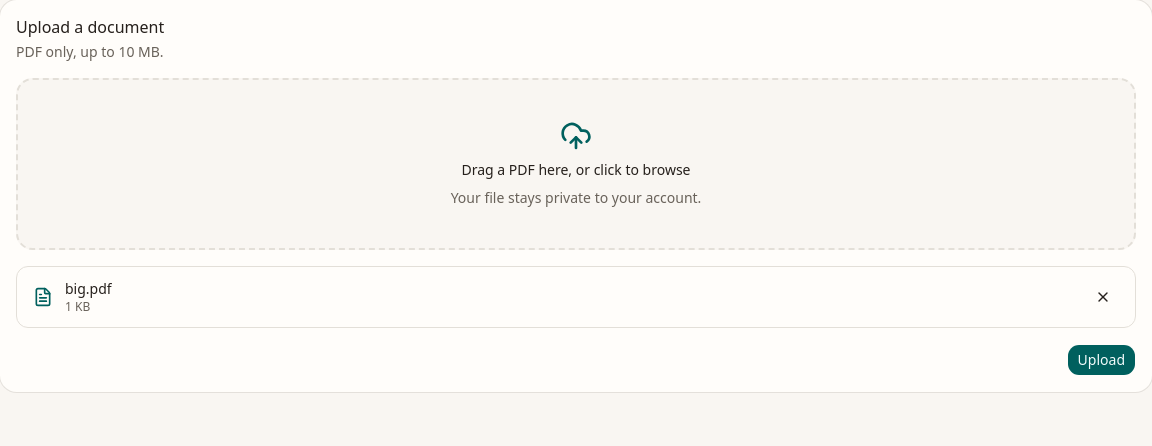
Test: upload card › shows the server error on the card when the upload fails
The image size is (1152, 446).
Earlier steps of the test are not shown.
Step 1. Click the button "Upload" → (1101, 360), box left=1067, top=344, right=1136, bottom=376
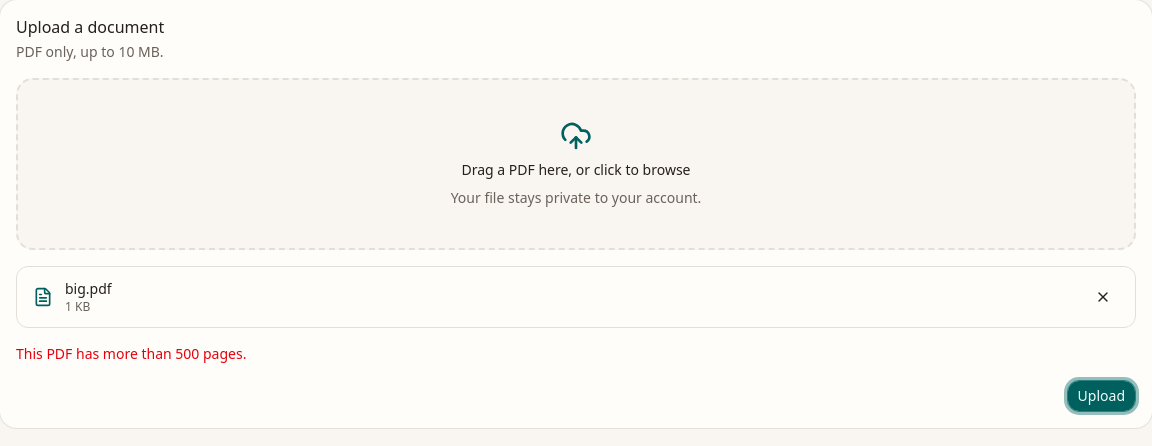
Now the message reads "This PDF has more than 500 pages.", box left=16, top=344, right=246, bottom=363
